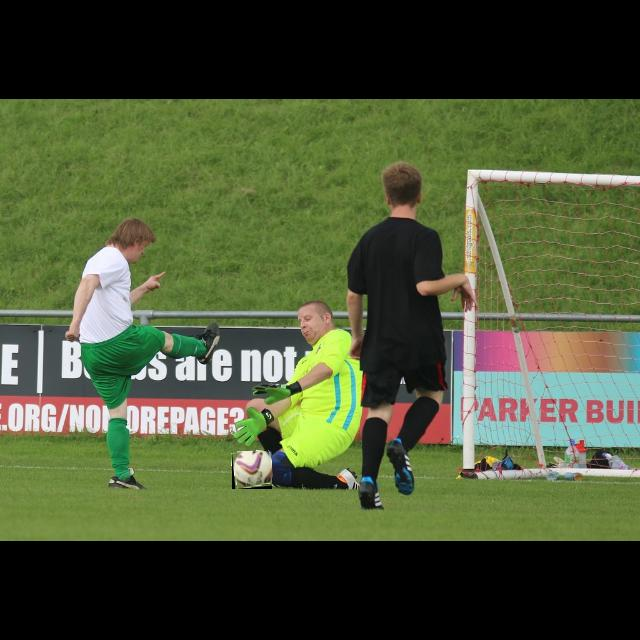Football: (232, 451, 272, 489)
